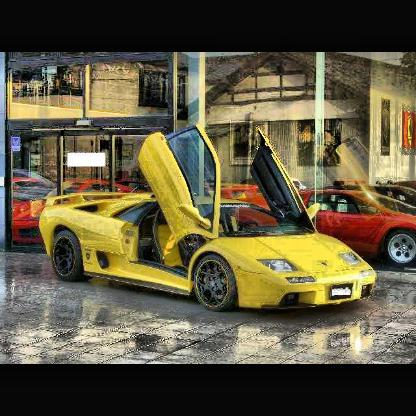Lamborghini Diablo Coupe 2001: (29, 115, 387, 336)
